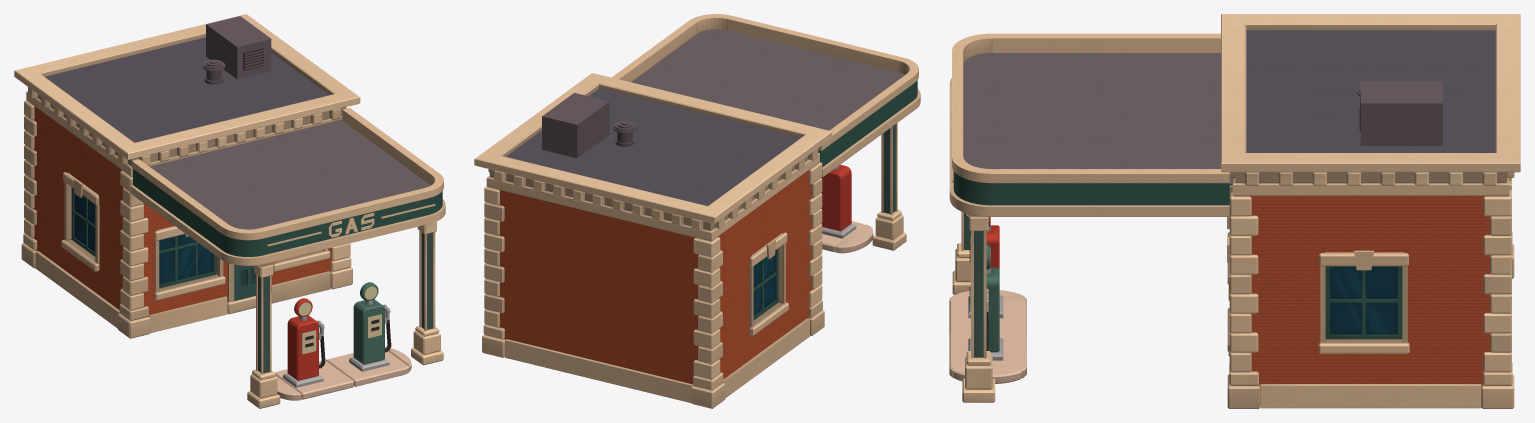
The model's file is houdini_gas_station.glb.
3 renders of one model, left to right at view 1: azimuth 30°, elevation 25°; view 2: azimuth 150°, elevation 25°; view 3: azimuth 270°, elevation 25°, orthographic. The views are drawn at different scales.
Visible parts, largest first — view 1: LOD0; view 2: LOD0; view 3: LOD0.
Part boxes in pixels (bbox=[...]): LOD0: bbox=[14, 14, 445, 408]; LOD0: bbox=[474, 14, 920, 408]; LOD0: bbox=[949, 14, 1520, 408].
Size of what is drawn, in the model's own units: 6.46 by 5.76 by 10.43.
Materials: 4 (4 with a texture image).
